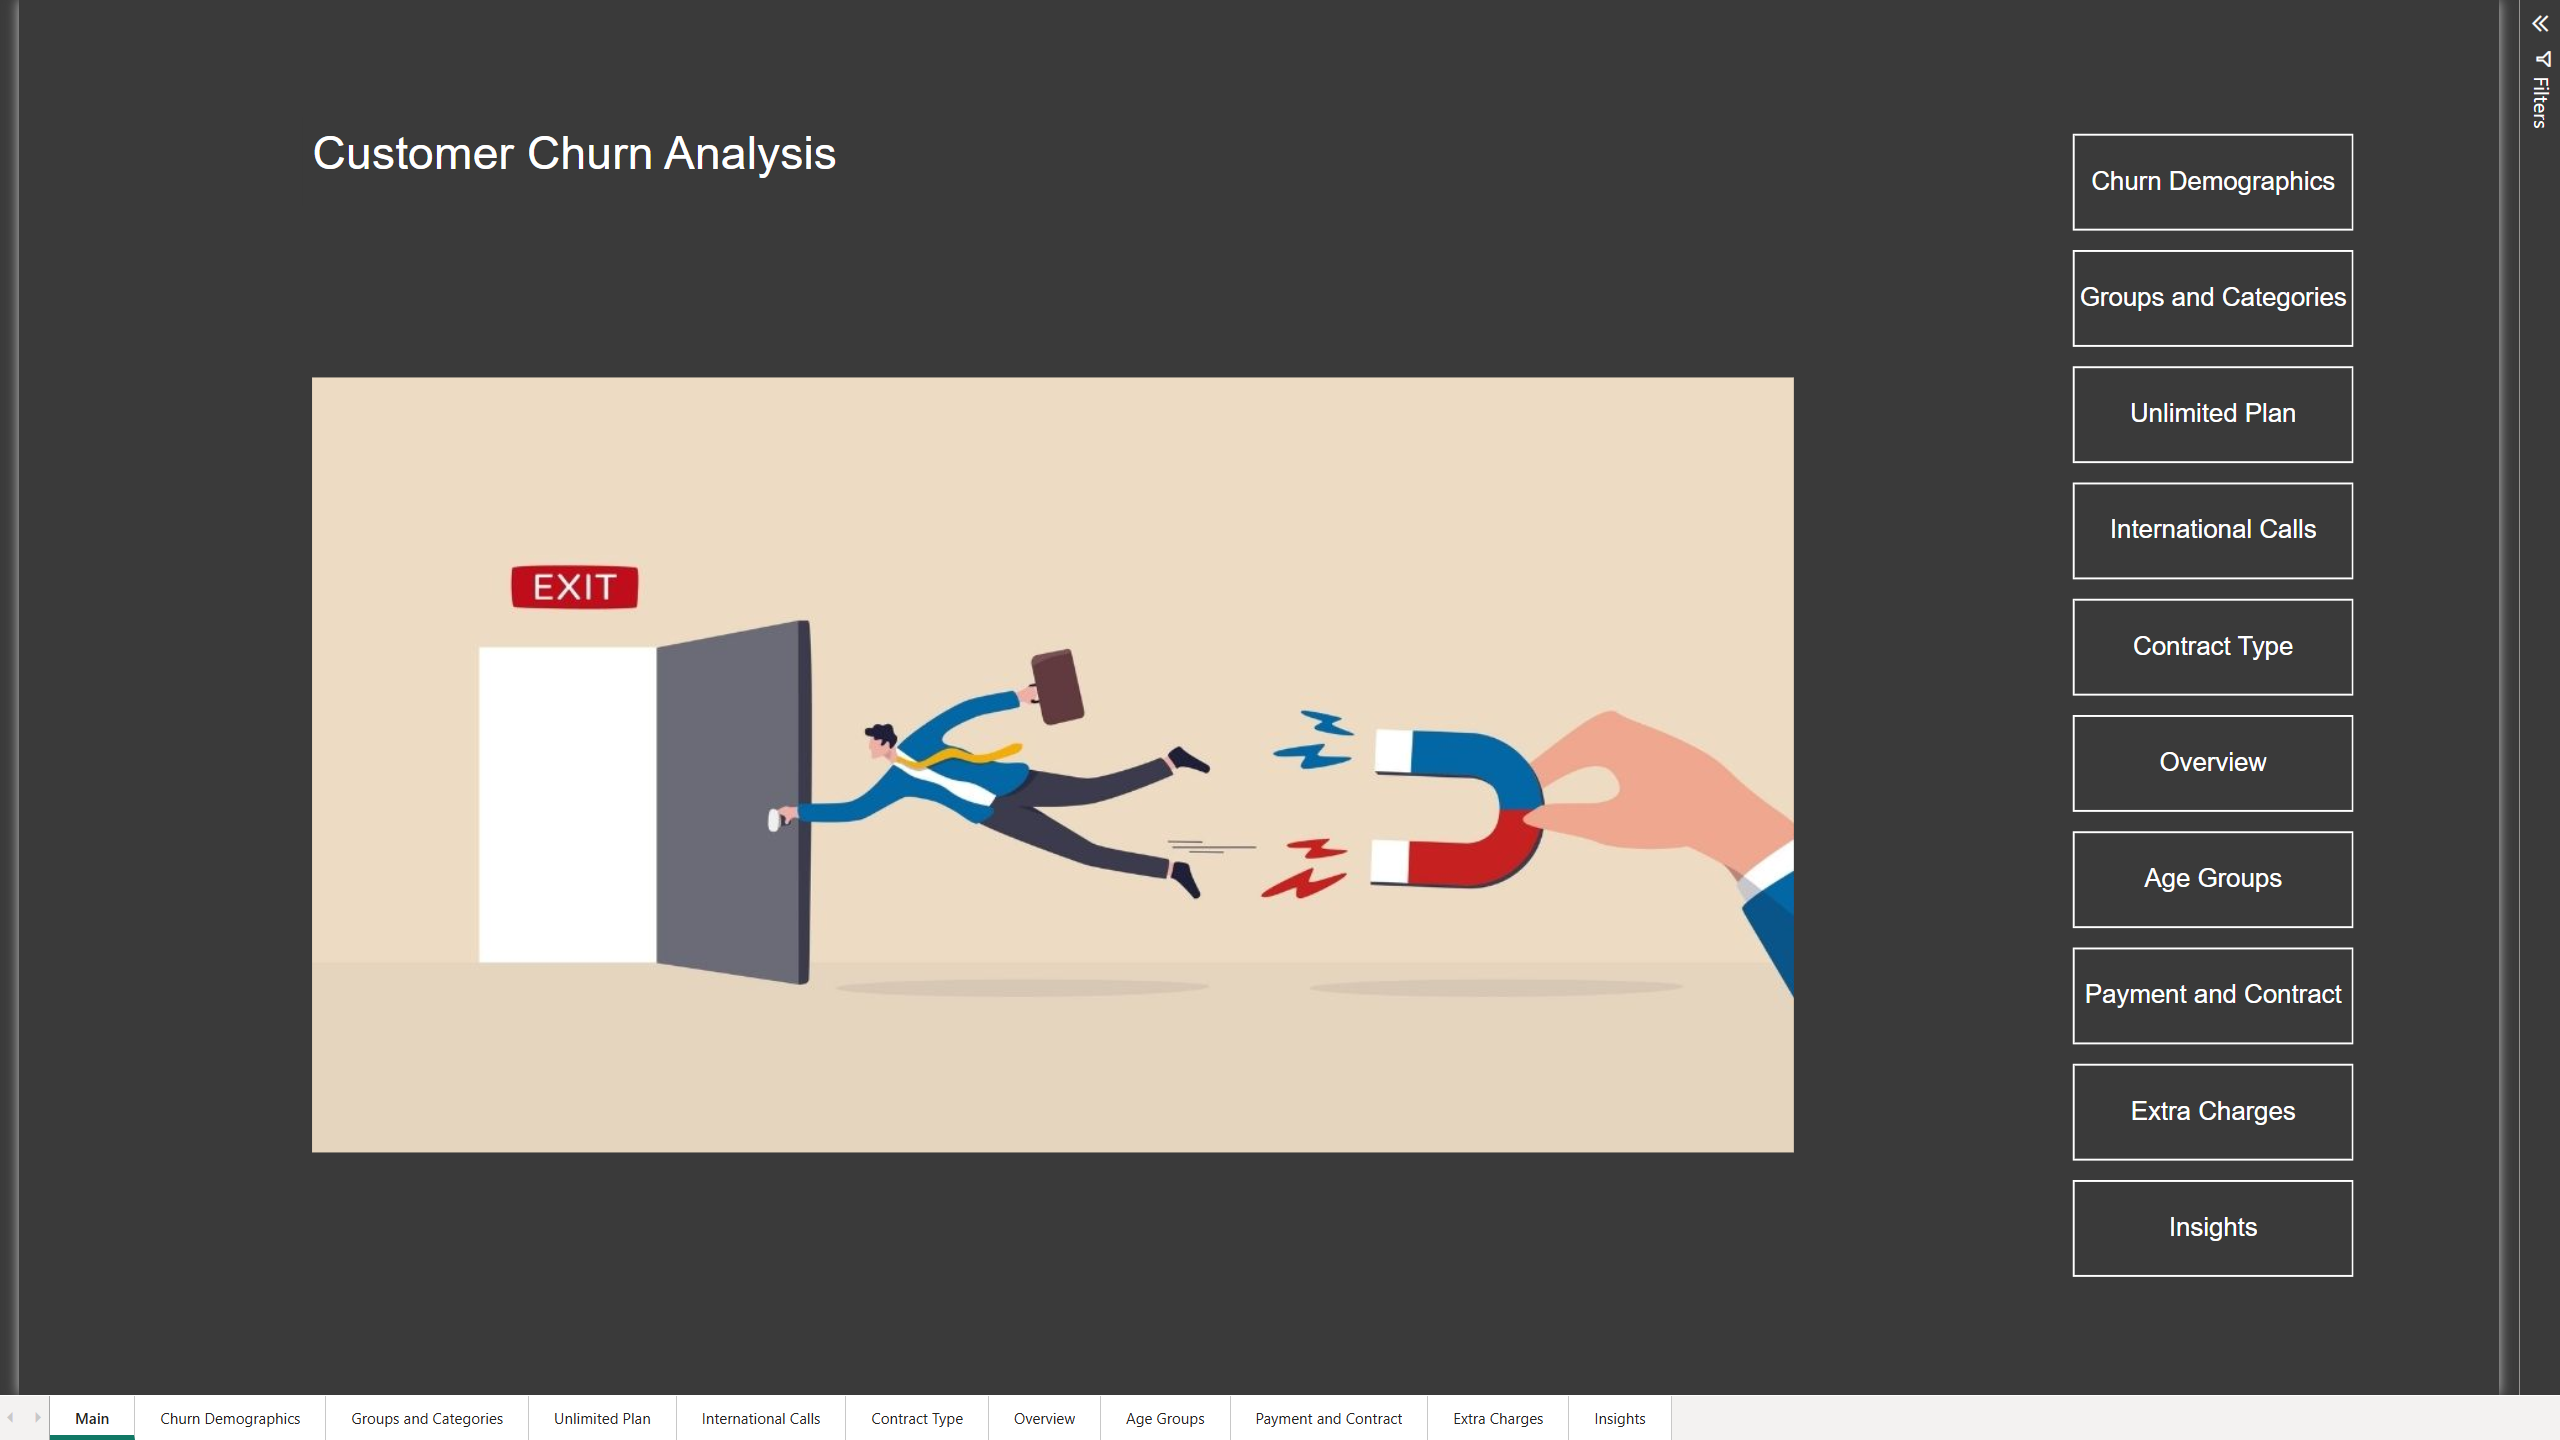

What the dashboard file says about the page in this screenshot:
{"tool":"powerbi","page":{"name":"Main","canvas":[1280,720],"ordinal":0},"visuals":[{"type":"pageNavigator","box":[1060.1,69.1,145.7,591.8],"z":2},{"type":"textbox","box":[146.5,60.9,301.2,45.3],"z":3},{"type":"image","box":[146.5,111.9,774.5,566.3],"z":4}]}

Visuals, with their boxes on the page's 1280x720 design canvas (x1, y1, x2, y2). These are canvas units, not pixel positions in the 2560x1440 screenshot, which may show the page scaled, cropped or inside an application window:
pageNavigator: region(1060, 69, 1206, 661)
textbox: region(146, 61, 448, 106)
image: region(146, 112, 921, 678)
